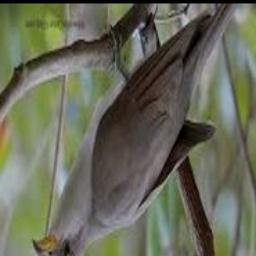Cuckoo: (33, 3, 237, 256)
